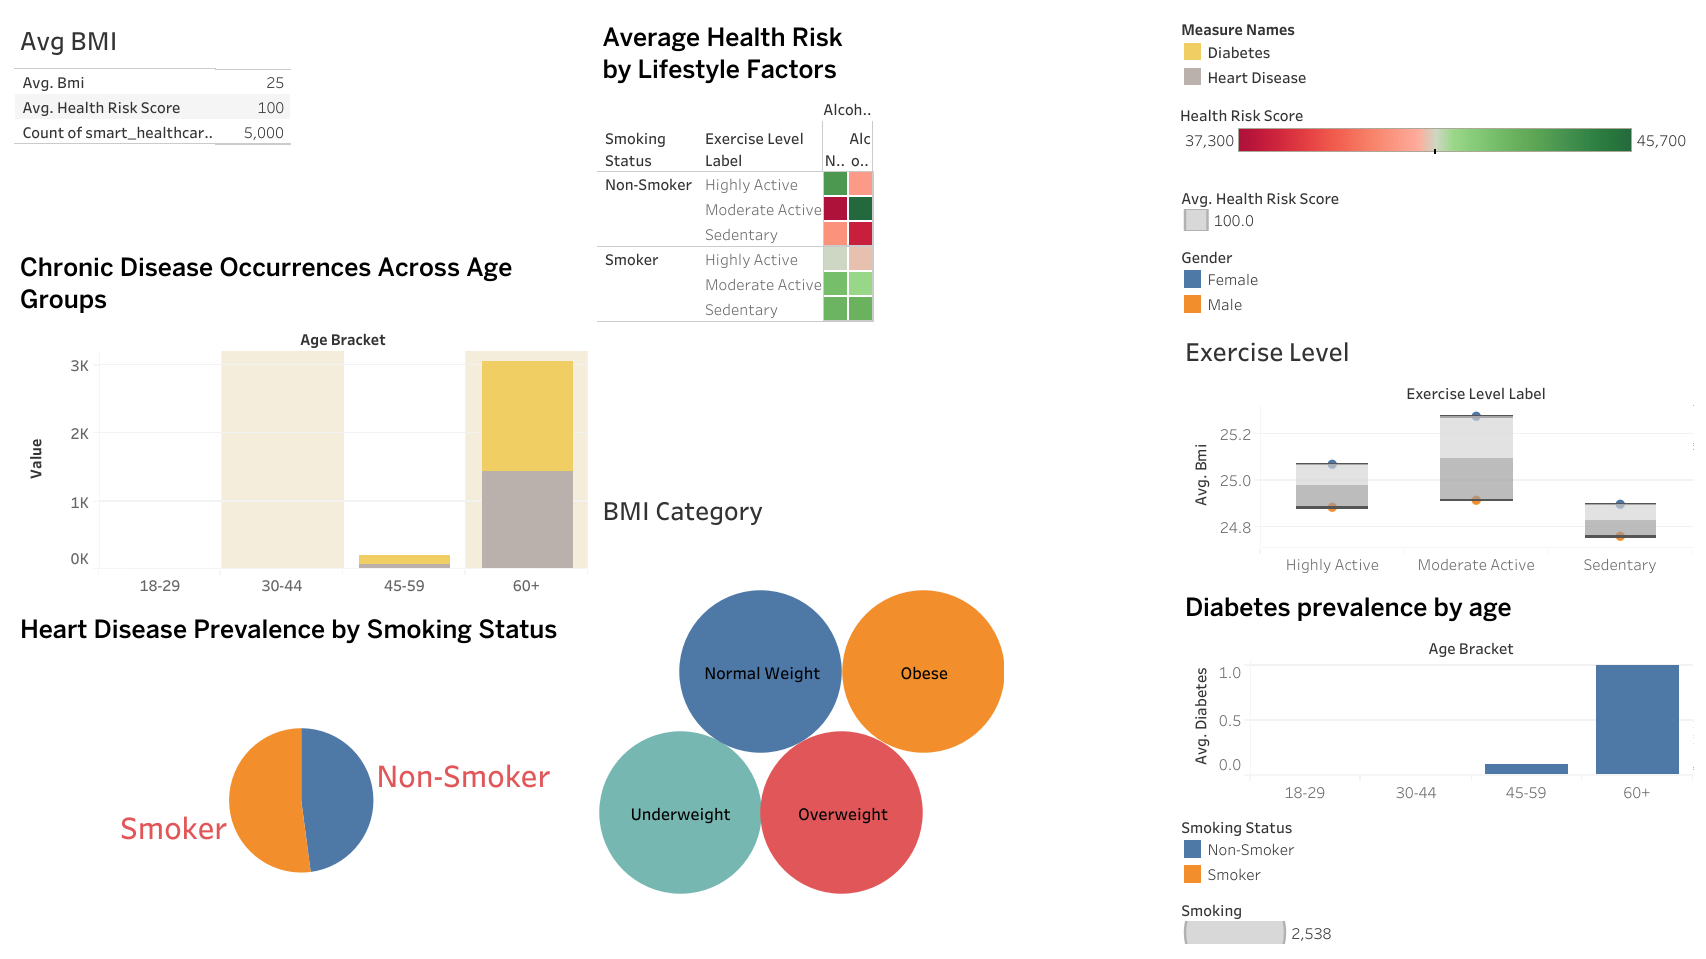

What the dashboard file says about the page in this screenshot:
{"tool":"tableau","page":{"name":"Dashboard 1","canvas":[1366,768],"ordinal":0},"visuals":[{"type":"worksheet","title":"KPIBanner","mark":"Automatic","box":[8,8,466,184]},{"type":"worksheet","title":"RiskHeatMap","mark":"Automatic","rows":["Calculation_1345035129499651","Calculation_1345035129233408"],"cols":["Calculation_1345035129692164"],"box":[474,8,466,376]},{"type":"legend","title":"Disease by age","param":"[federated.04yhuwf1ip8euy1fp1wwm146ri0p].[:Measure Names]","box":[940,8,418,72]},{"type":"legend","title":"RiskHeatMap","param":"[federated.04yhuwf1ip8euy1fp1wwm146ri0p].[sum:health_risk_score:qk]","box":[940,80,418,73]},{"type":"legend","title":"RiskHeatMap","param":"[federated.04yhuwf1ip8euy1fp1wwm146ri0p].[avg:health_risk_score:qk]","box":[940,153,418,51]},{"type":"worksheet","title":"Disease by age","mark":"Automatic","cols":["Calculation_1345035129827333"],"box":[8,192,466,289]},{"type":"legend","title":"Sheet 6","param":"[federated.04yhuwf1ip8euy1fp1wwm146ri0p].[none:gender:nk]","box":[940,204,418,72]},{"type":"worksheet","title":"Sheet 6","mark":"Circle","rows":["bmi"],"cols":["Calculation_1345035129233408"],"box":[940,276,418,180.5]},{"type":"worksheet","title":"Sheet 5","mark":"Circle","box":[474,384,466,376]},{"type":"worksheet","title":"Diabetes prevalance by age","mark":"Automatic","rows":["diabetes"],"cols":["Calculation_1345035129827333"],"box":[940,456.5,418,180.5]},{"type":"worksheet","title":"Sheet 8","mark":"Pie","box":[8,481,466,279]},{"type":"legend","title":"Sheet 8","param":"[federated.04yhuwf1ip8euy1fp1wwm146ri0p].[none:Calculation_1345035129499651:nk]","box":[940,637,418,72]},{"type":"legend","title":"Sheet 8","param":"[federated.04yhuwf1ip8euy1fp1wwm146ri0p].[sum:smoking:qk]","box":[940,709,418,51]}]}

Visuals, with their boxes in screenshot pixels (x1, y1, x2, y2), scaled from the page's 1366x768 canvas onto the 1706x959 screenshot:
"KPIBanner" worksheet: (10,10,592,240)
"RiskHeatMap" worksheet: (592,10,1174,480)
"Disease by age" legend: (1174,10,1696,100)
"RiskHeatMap" legend: (1174,100,1696,191)
"RiskHeatMap" legend: (1174,191,1696,255)
"Disease by age" worksheet: (10,240,592,601)
"Sheet 6" legend: (1174,255,1696,345)
"Sheet 6" worksheet (Circle marks): (1174,345,1696,570)
"Sheet 5" worksheet (Circle marks): (592,480,1174,949)
"Diabetes prevalance by age" worksheet: (1174,570,1696,795)
"Sheet 8" worksheet (Pie marks): (10,601,592,949)
"Sheet 8" legend: (1174,795,1696,885)
"Sheet 8" legend: (1174,885,1696,949)
